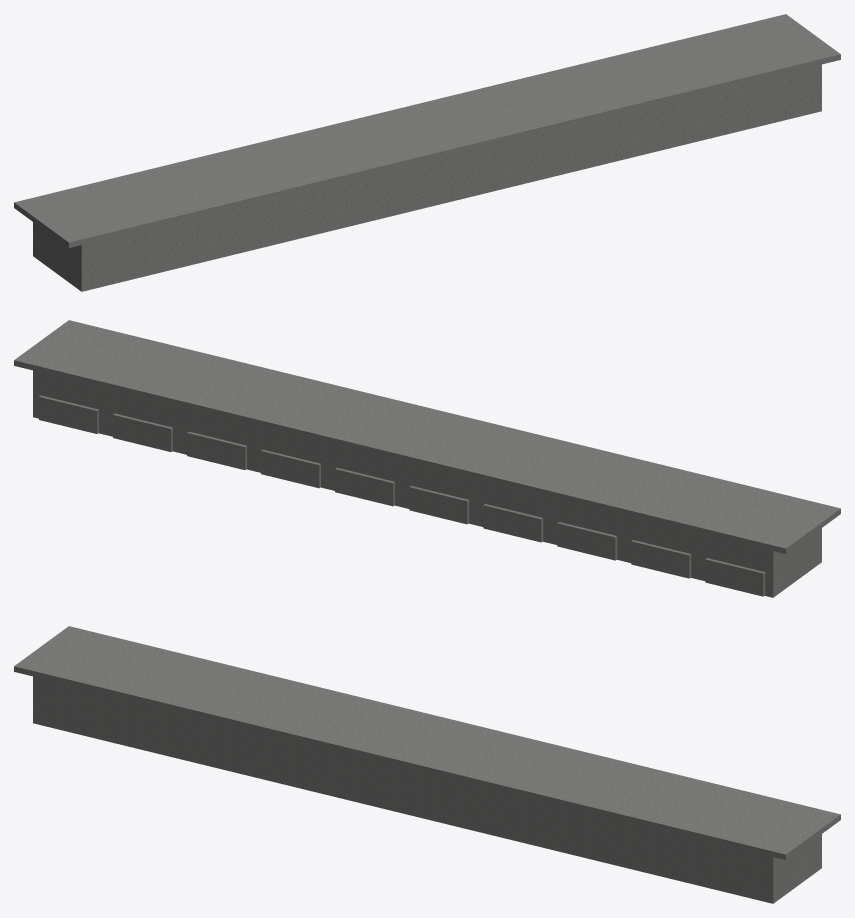
The model's file is pit_building.obj.
3 renders of one model, top to bottom at view 1: azimuth 30°, elevation 25°; view 2: azimuth 150°, elevation 25°; view 3: azimuth 330°, elevation 25°, orthographic.
Visible parts, largest first — view 1: pit_building; view 2: pit_building; view 3: pit_building.
Boxes of the visible parts, x1,y1,x2,y2 form: pit_building: [14, 14, 840, 291]; pit_building: [14, 320, 840, 597]; pit_building: [14, 626, 840, 903].
Size of the model in its own units: 146 by 10 by 18.
Materials: 1 (1 with a texture image).
